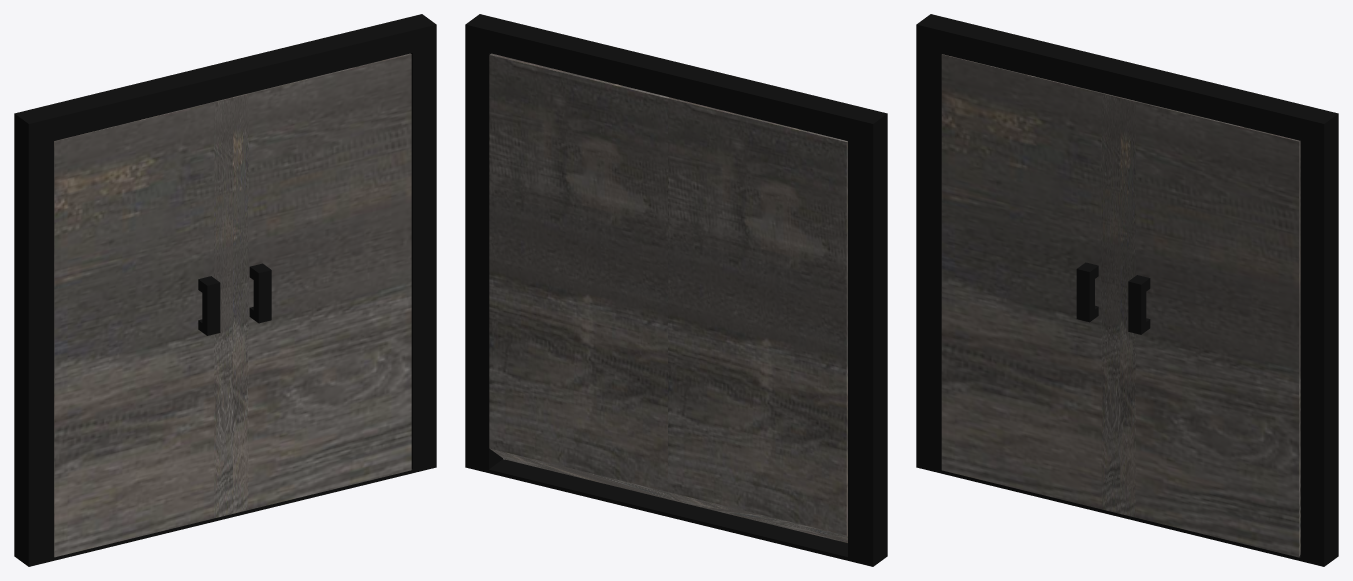
Rendered from DoubleDoor.obj.
The picture shows the model from 3 angles, left to right: view 1: azimuth 30°, elevation 25°; view 2: azimuth 150°, elevation 25°; view 3: azimuth 330°, elevation 25°; orthographic projection.
Visible parts, largest first — view 1: CoreMaterialBuild.268_Cube.490_wood_door, CoreMaterialBuild.268_Cube.490_door; view 2: CoreMaterialBuild.268_Cube.490_wood_door, CoreMaterialBuild.268_Cube.490_door; view 3: CoreMaterialBuild.268_Cube.490_wood_door, CoreMaterialBuild.268_Cube.490_door.
Boxes of the visible parts, x1,y1,x2,y2 form: CoreMaterialBuild.268_Cube.490_wood_door: (54,53,411,557); CoreMaterialBuild.268_Cube.490_door: (14,14,436,566); CoreMaterialBuild.268_Cube.490_wood_door: (489,53,847,542); CoreMaterialBuild.268_Cube.490_door: (465,14,887,566); CoreMaterialBuild.268_Cube.490_wood_door: (941,54,1300,557); CoreMaterialBuild.268_Cube.490_door: (916,14,1338,566).
Bounding box in the file's own units: 1.81 × 1.88 × 0.1883.
